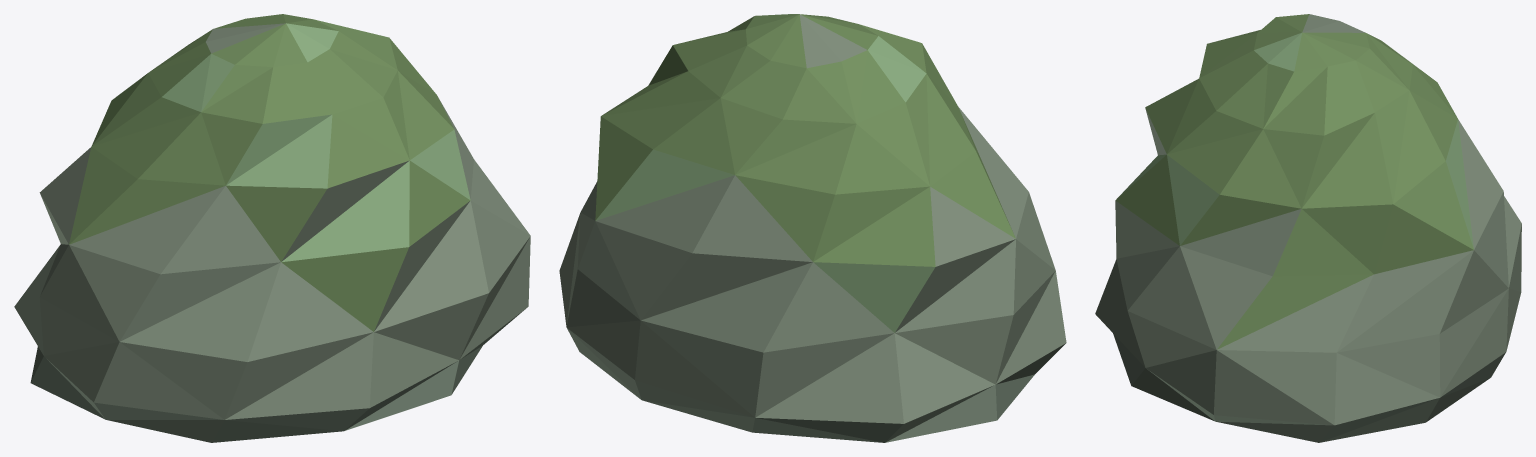
Rendered from rock_a.glb.
The picture shows the model from 3 angles, left to right: view 1: azimuth 30°, elevation 25°; view 2: azimuth 150°, elevation 25°; view 3: azimuth 270°, elevation 25°; orthographic projection. The views are drawn at different scales.
Parts seen in each view (by area): view 1: rock_a; view 2: rock_a; view 3: rock_a.
Part boxes in pixels (<box>): rock_a: <box>14,14,530,442</box>; rock_a: <box>559,14,1066,442</box>; rock_a: <box>1095,14,1521,442</box>.
Size of the model in its own units: 2.4 by 1.66 by 2.03.
